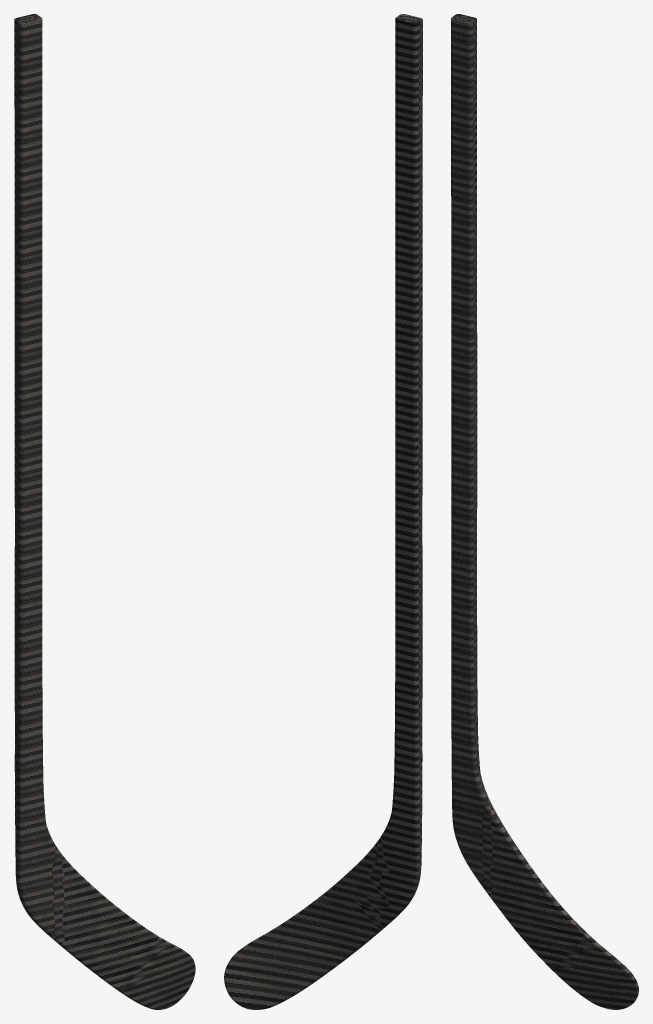
The picture shows the model from 3 angles, left to right: view 1: azimuth 30°, elevation 25°; view 2: azimuth 150°, elevation 25°; view 3: azimuth 330°, elevation 25°; orthographic projection. The views are drawn at different scales.
Parts seen in each view (by area): view 1: geometry_0; view 2: geometry_0; view 3: geometry_0.
Boxes of the visible parts, bbox=[...] form: geometry_0: bbox=[14, 14, 195, 1009]; geometry_0: bbox=[224, 14, 422, 1009]; geometry_0: bbox=[451, 14, 638, 1009].
Bounding box in the file's own units: 244 × 1277 × 38.38.
Materials: 1 (1 with a texture image).
